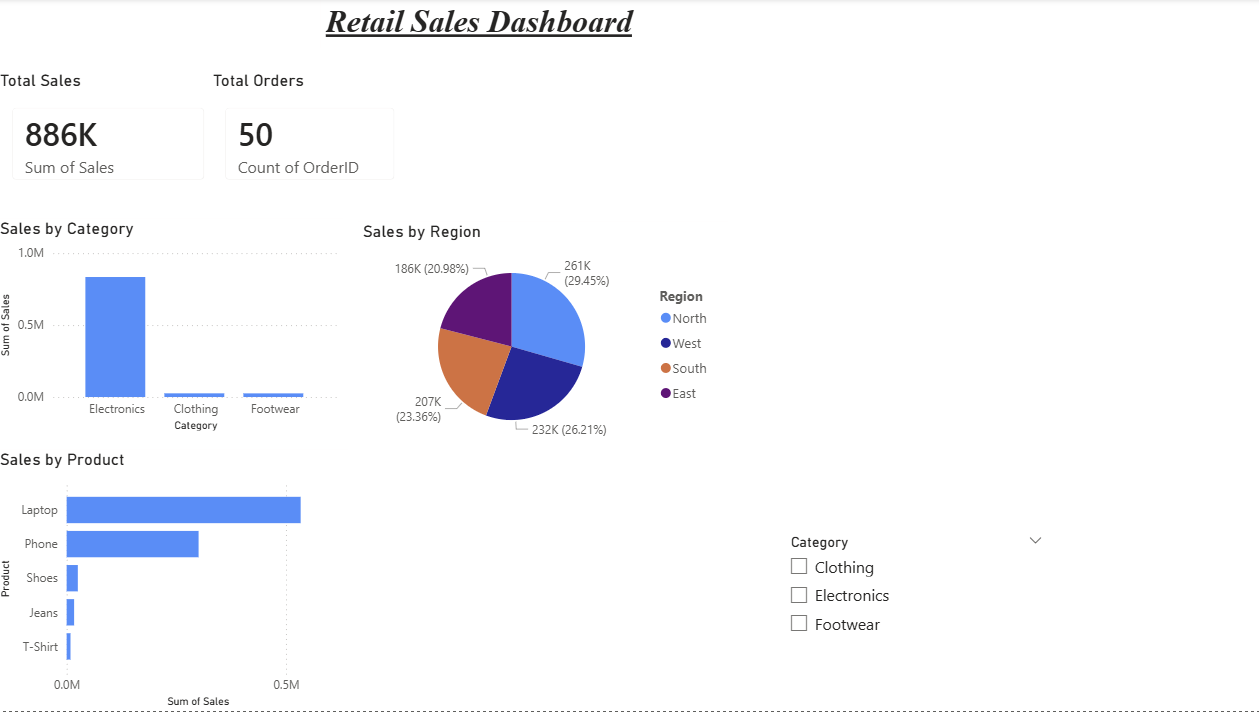

This screenshot's page, from the dashboard's own definition file:
{"tool":"powerbi","page":{"name":"Page 1","canvas":[1280,720],"ordinal":0},"visuals":[{"type":"clusteredColumnChart","title":" Sales by Category","fields":{"Y":["Sum(SalesData.Sales)"],"Category":["SalesData.Category"]},"box":[0,223.3,351.1,218.9],"z":0},{"type":"pieChart","title":" Sales by Region","fields":{"Category":["SalesData.Region"],"Y":["Sum(SalesData.Sales)"]},"box":[366.7,225.6,373.3,231.1],"z":1},{"type":"clusteredBarChart","title":" Sales by Product","fields":{"Category":["SalesData.Product"],"Y":["Sum(SalesData.Sales)"]},"box":[0,455.6,356.7,264.4],"z":2},{"type":"slicer","fields":{"Values":["SalesData.Category"]},"box":[790,535.6,278.9,184.4],"z":3},{"type":"cardVisual","title":"Total Sales","fields":{"Data":["Sum(SalesData.Sales)"]},"box":[0,72.2,228.9,127.8],"z":4},{"type":"textbox","box":[328.9,0,334.4,50],"z":6},{"type":"cardVisual","title":"Total Orders","fields":{"Data":["CountNonNull(SalesData.OrderID)"]},"box":[214.4,72.2,205.6,127.8],"z":7}]}

Visuals, with their boxes in screenshot pixels (x1, y1, x2, y2), scaled from the page's 1280x720 canvas onto the 1259x712 screenshot:
" Sales by Category" clusteredColumnChart: crop(0, 221, 345, 437)
" Sales by Region" pieChart: crop(361, 223, 728, 452)
" Sales by Product" clusteredBarChart: crop(0, 451, 351, 711)
slicer - SalesData.Category: crop(777, 530, 1051, 711)
"Total Sales" cardVisual: crop(0, 71, 225, 198)
textbox: crop(324, 0, 652, 49)
"Total Orders" cardVisual: crop(211, 71, 413, 198)
